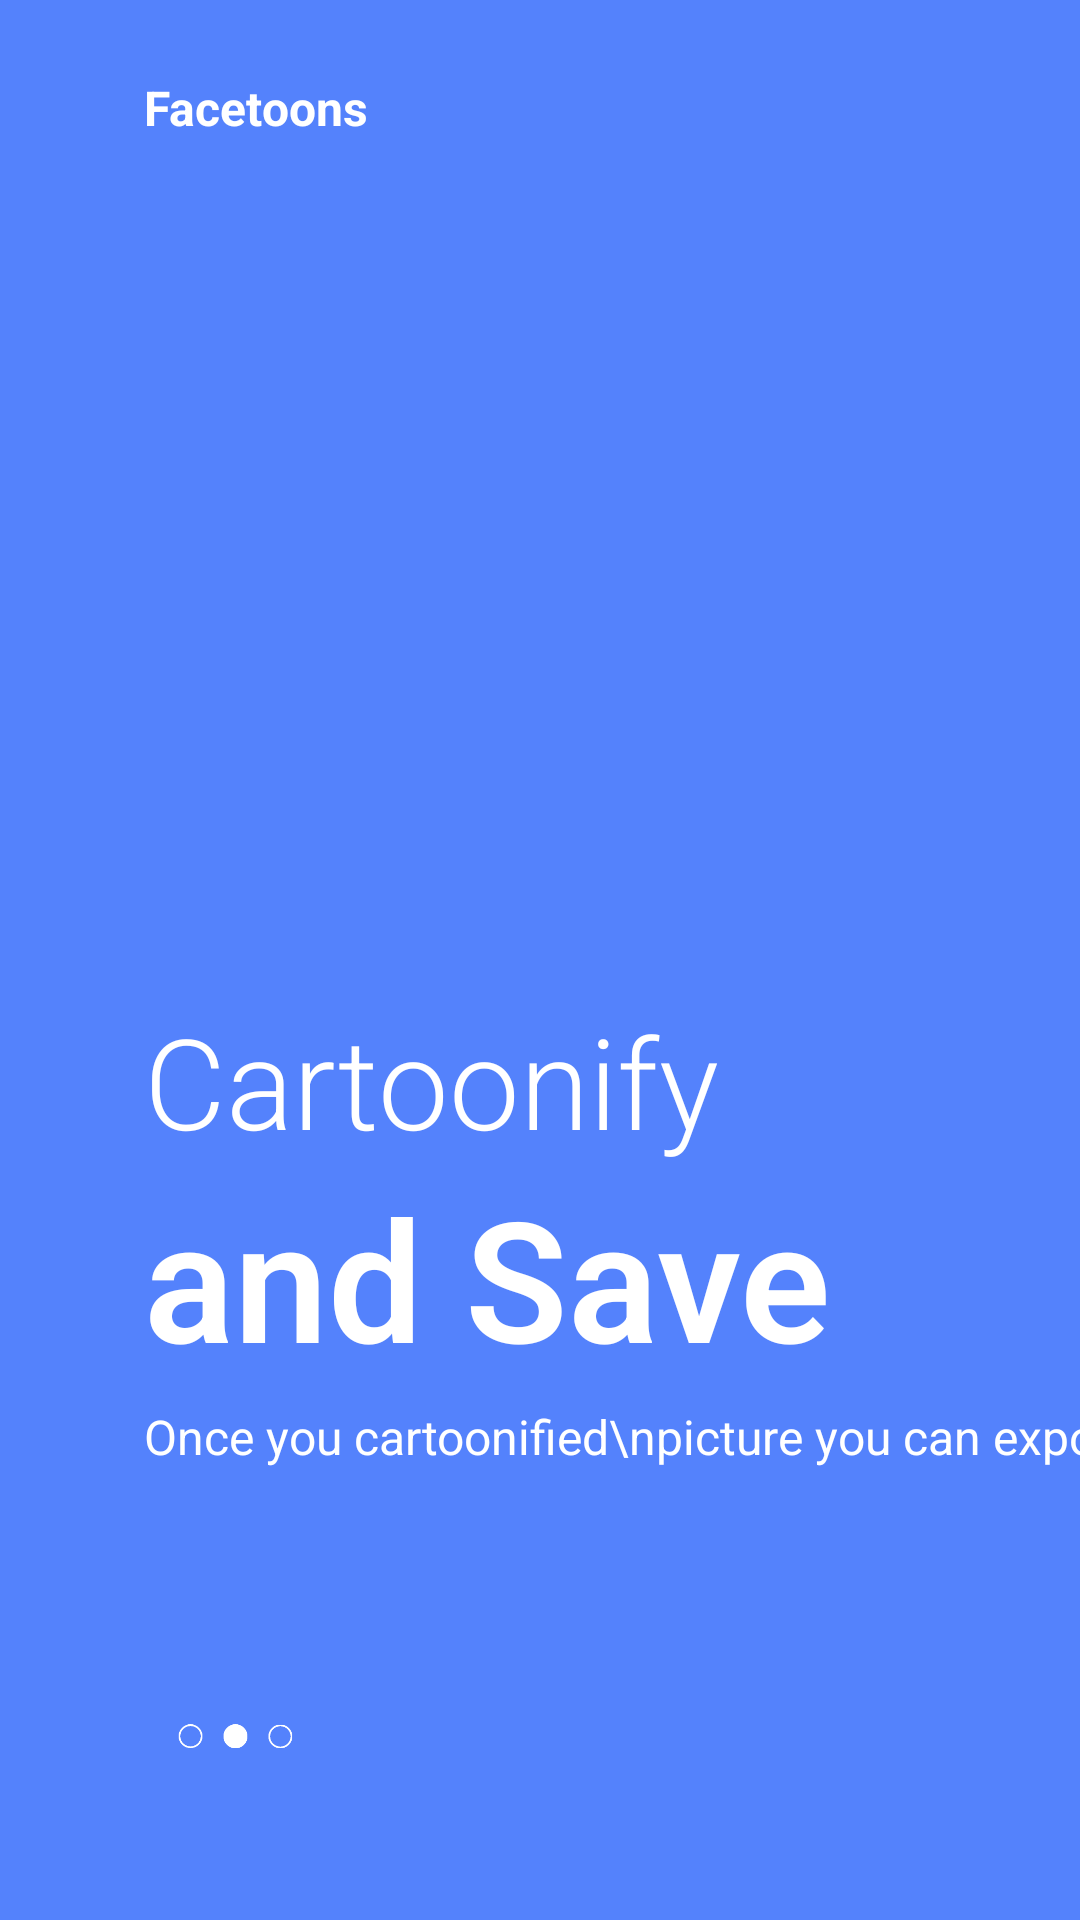

Named icons in this screenshot (1080 x 1920) and their centers, (x,y):
tab: (235,1736)
